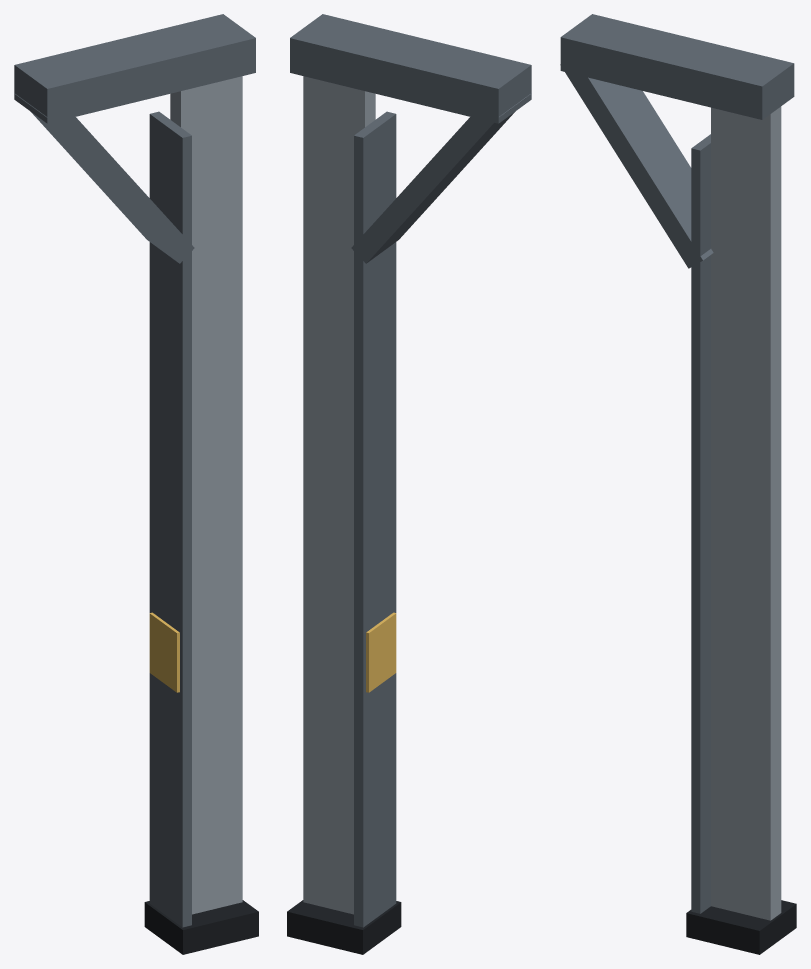
The model's file is env_carrier_rib.fbx.
The picture shows the model from 3 angles, left to right: view 1: azimuth 30°, elevation 25°; view 2: azimuth 150°, elevation 25°; view 3: azimuth 330°, elevation 25°; orthographic projection. The views are drawn at different scales.
Visible parts, largest first — view 1: env_carrier_rib; view 2: env_carrier_rib; view 3: env_carrier_rib.
Boxes of the visible parts, x1=… form: env_carrier_rib: x1=14, y1=14, x2=258, y2=954; env_carrier_rib: x1=287, y1=14, x2=531, y2=954; env_carrier_rib: x1=560, y1=14, x2=796, y2=954.
Size of the model in its own units: 441 by 1805 by 140.
